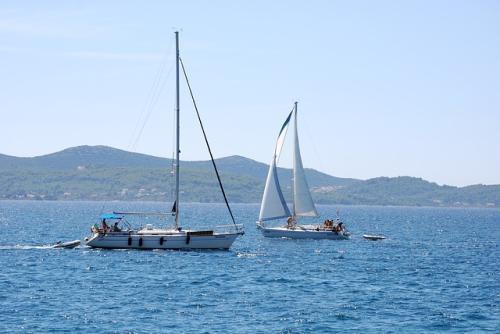fanchuan: (95, 26, 246, 248), (254, 100, 355, 240)
